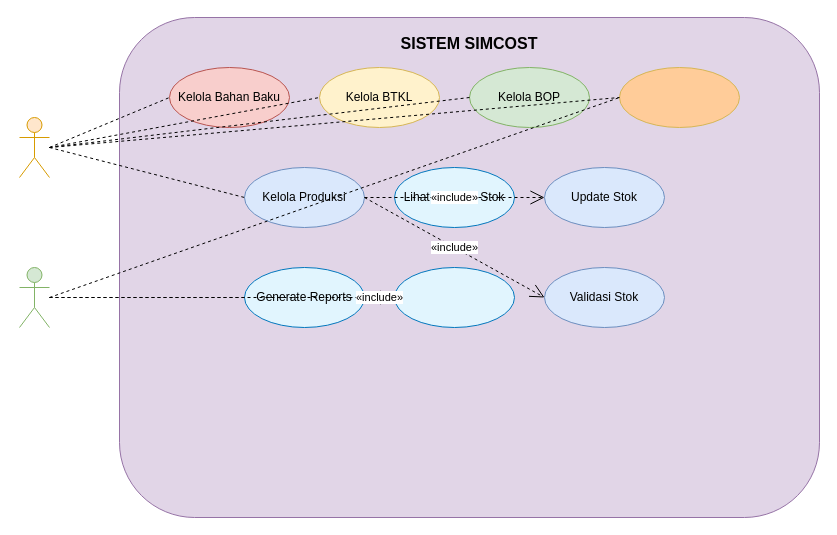
This 837x535 diagram has some shape labels left out. The shapes that lost their labels are listed below. From the top down, each one's centre as x and y in pixels, then its label:
At (x=679, y=97): "Hitung HPP".
At (x=34, y=147): "Admin".
At (x=34, y=297): "Owner".
At (x=454, y=297): "Tracking Stok".
